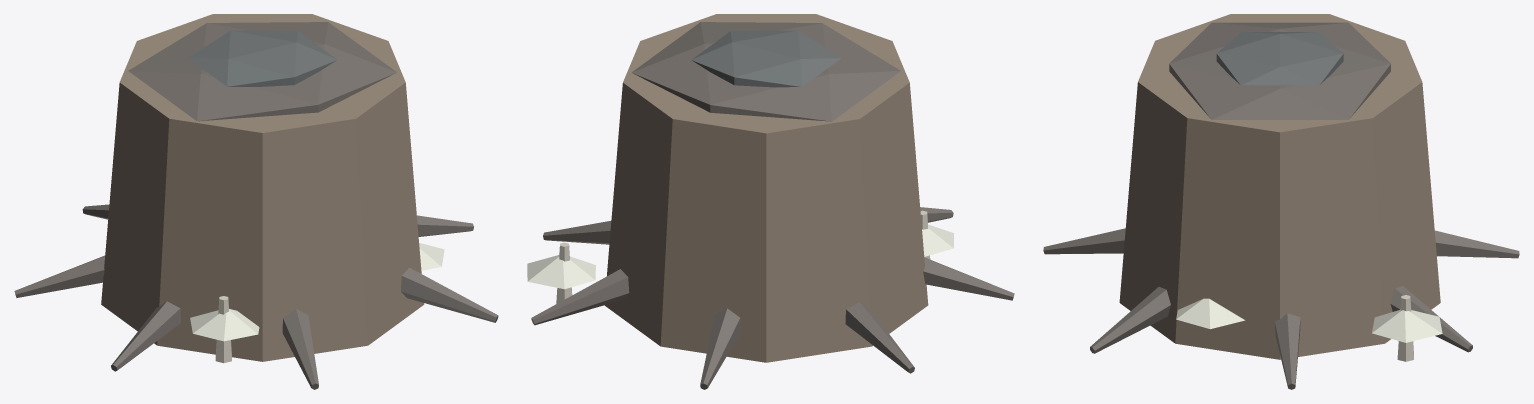
Rendered from mushroom_stump.glb.
3 renders of one model, left to right at view 1: azimuth 30°, elevation 25°; view 2: azimuth 150°, elevation 25°; view 3: azimuth 270°, elevation 25°, orthographic.
Visible parts, largest first — view 1: material_00, material_01, material_02, material_04, material_03; view 2: material_00, material_01, material_02, material_04, material_03; view 3: material_00, material_01, material_02, material_04, material_03.
Boxes of the visible parts, x1=… form: material_00: x1=101, y1=14, x2=424, y2=361; material_01: x1=14, y1=22, x2=498, y2=389; material_02: x1=188, y1=30, x2=337, y2=86; material_04: x1=190, y1=243, x2=444, y2=341; material_03: x1=215, y1=296, x2=231, y2=363; material_00: x1=605, y1=14, x2=928, y2=362; material_01: x1=531, y1=22, x2=1014, y2=389; material_02: x1=691, y1=30, x2=840, y2=87; material_04: x1=527, y1=224, x2=954, y2=289; material_03: x1=556, y1=210, x2=930, y2=303; material_00: x1=1119, y1=14, x2=1440, y2=359; material_01: x1=1043, y1=22, x2=1519, y2=389; material_02: x1=1216, y1=32, x2=1343, y2=85; material_04: x1=1176, y1=298, x2=1442, y2=342; material_03: x1=1397, y1=295, x2=1413, y2=361.
Bounding box in the file's own units: 1.02 × 0.5696 × 1.02.
